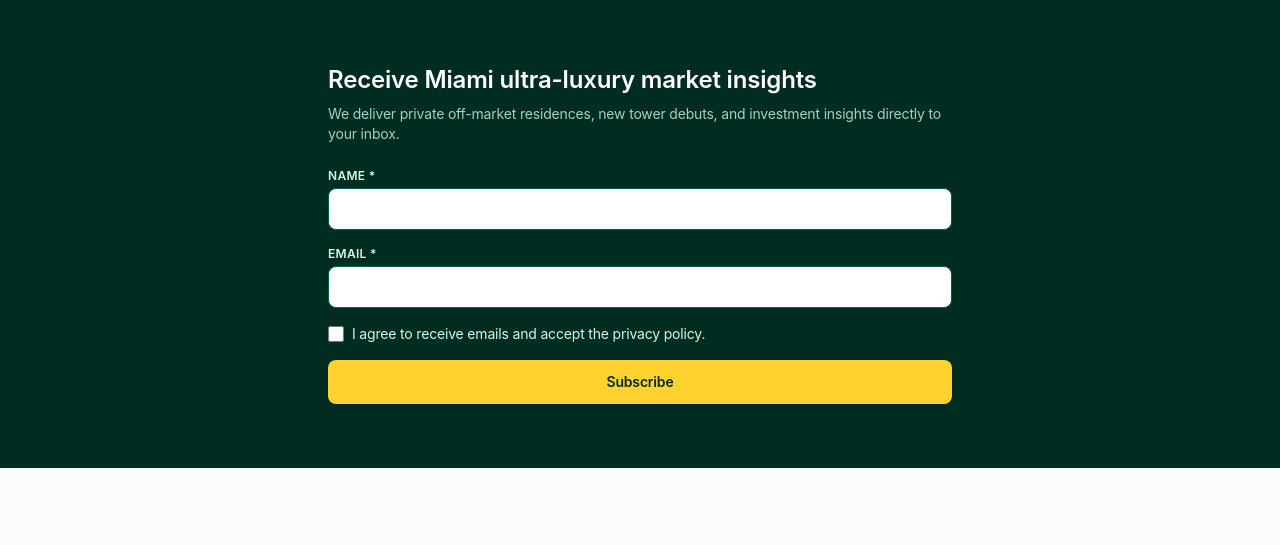
Test: NewsletterForm › shows an error when the API responds with a failure
Type "Ana" into the field labelled "Name *" at (640, 209), box [328,188,952,230]
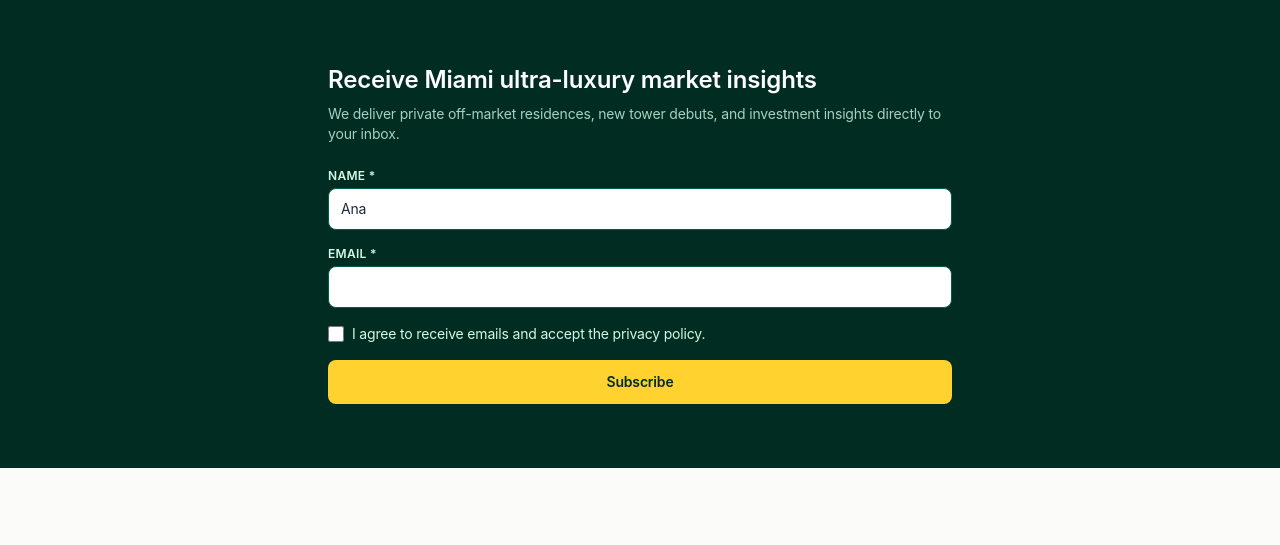
Type "ana@example.com" into the field labelled "Email *" at (640, 287), box [328,266,952,308]
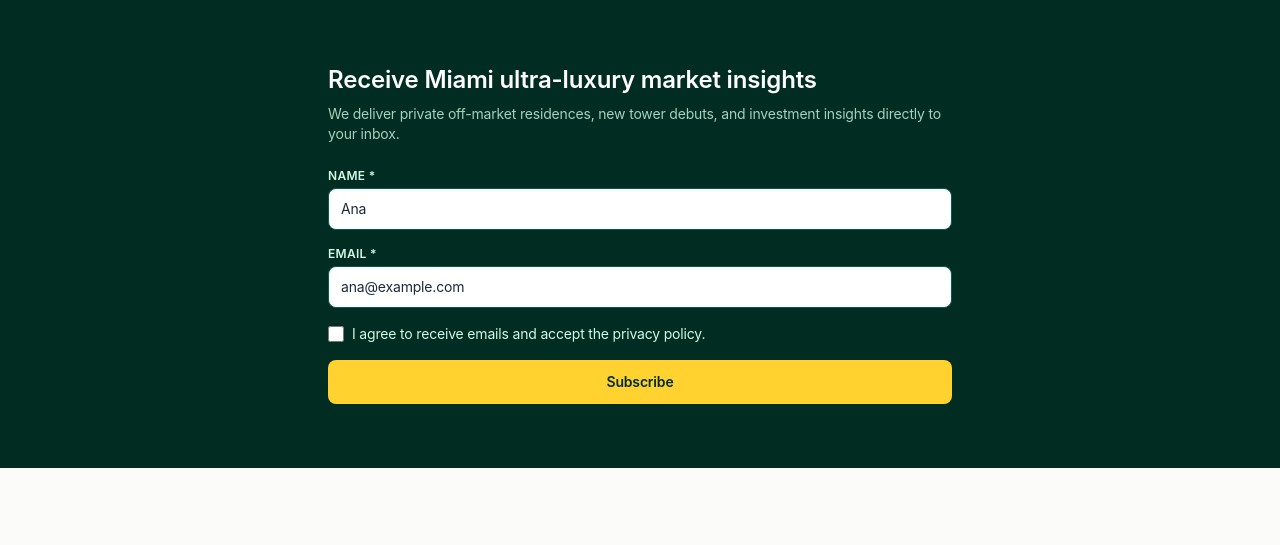
Click the checkbox at (336, 334), box [328,326,344,342]
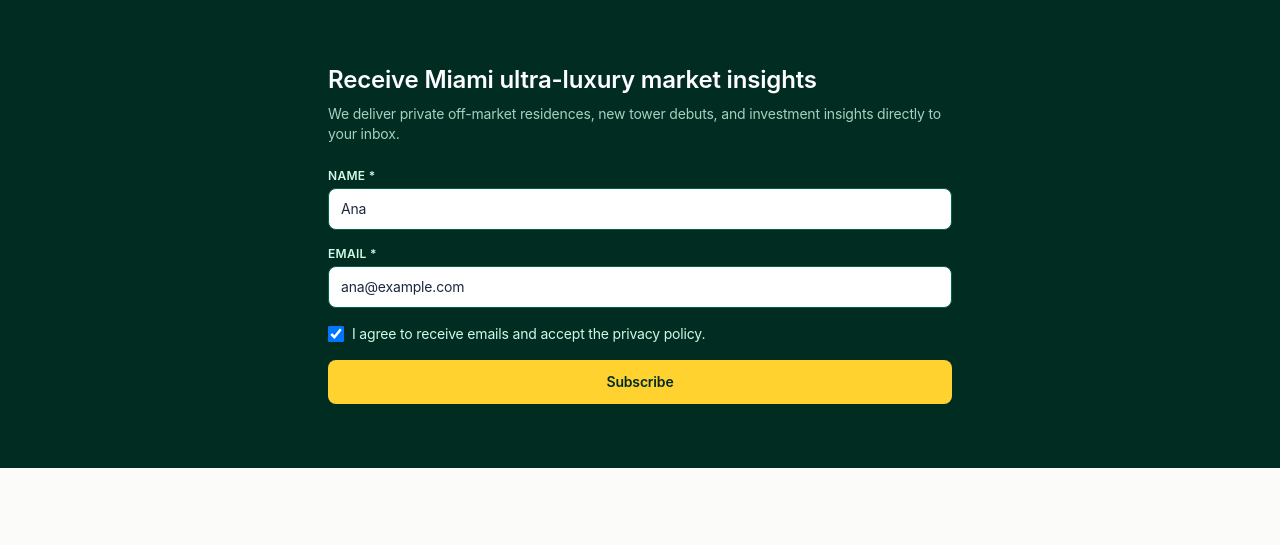
Click the button "Subscribe" at (640, 382), box [328,360,952,404]
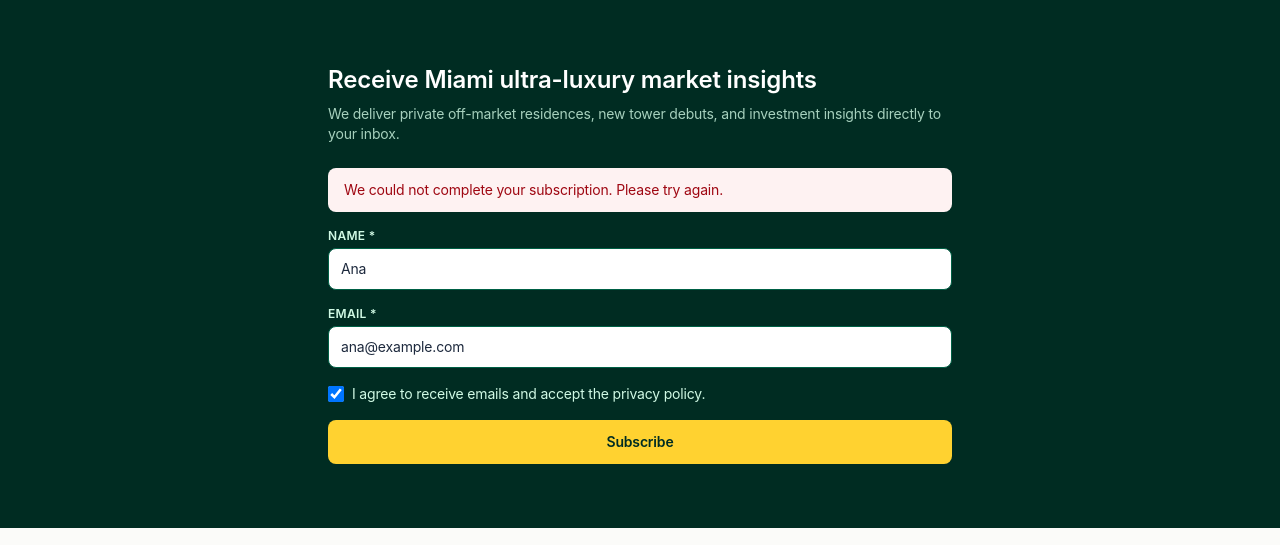
Expected: the text "We could not complete your subscription. Please try again." is shown, [328,168,952,212]
